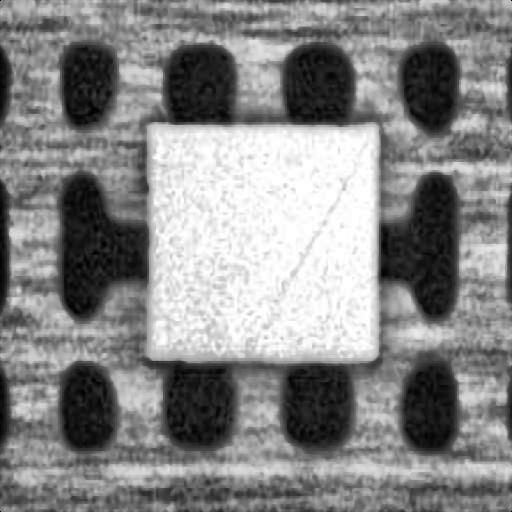DIE_CRACK: (280, 164, 356, 278)
